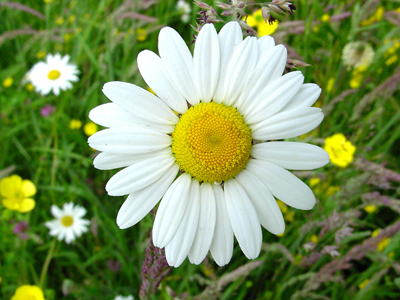papatya: (89, 16, 335, 267)
